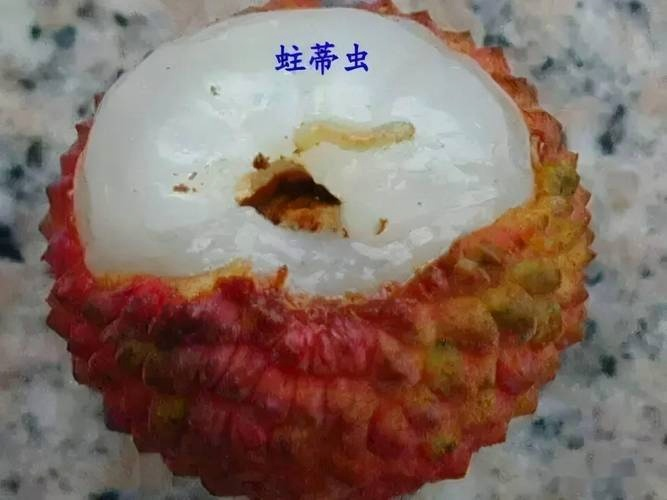Borer: (281, 116, 419, 148)
